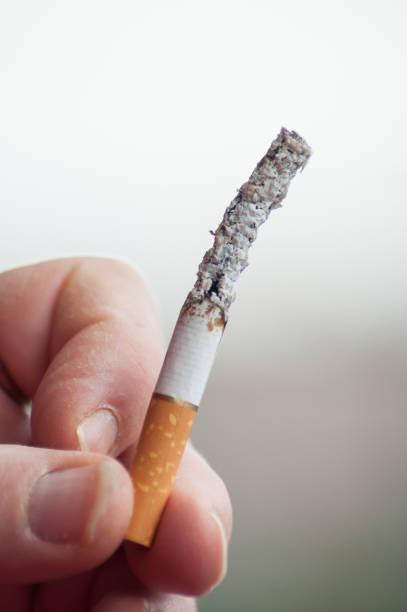cigarette: (121, 128, 310, 548)
